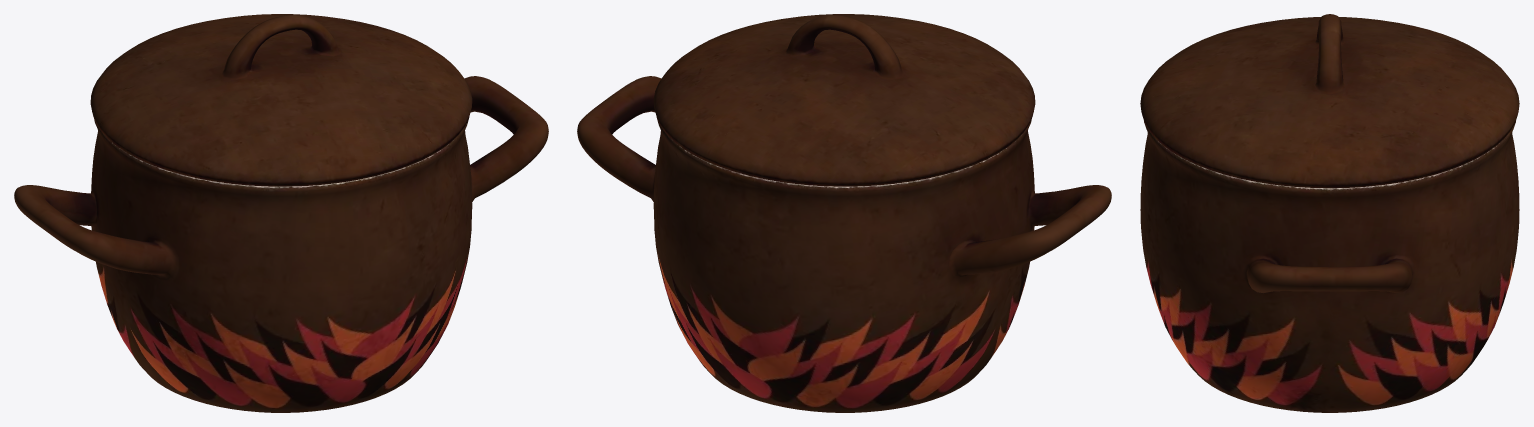
The model's file is pot_enamel_01.glb.
The picture shows the model from 3 angles, left to right: view 1: azimuth 30°, elevation 25°; view 2: azimuth 150°, elevation 25°; view 3: azimuth 270°, elevation 25°; orthographic projection.
Visible parts, largest first — view 1: pot_enamel_01_base, pot_enamel_01_lid; view 2: pot_enamel_01_base, pot_enamel_01_lid; view 3: pot_enamel_01_base, pot_enamel_01_lid.
Part boxes in pixels (box(x1,y1,x2,y2)): pot_enamel_01_base: box(14, 76, 548, 412); pot_enamel_01_lid: box(90, 14, 472, 186); pot_enamel_01_base: box(577, 76, 1111, 412); pot_enamel_01_lid: box(653, 14, 1035, 186); pot_enamel_01_base: box(1140, 121, 1519, 412); pot_enamel_01_lid: box(1140, 14, 1519, 188).
Size of the model in its own units: 0.2629 by 0.1783 by 0.1805.
1 material, 1 textured.
